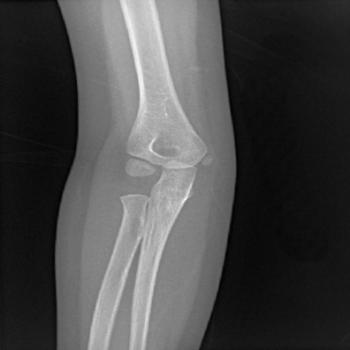Fracture: (113, 162, 159, 211)
